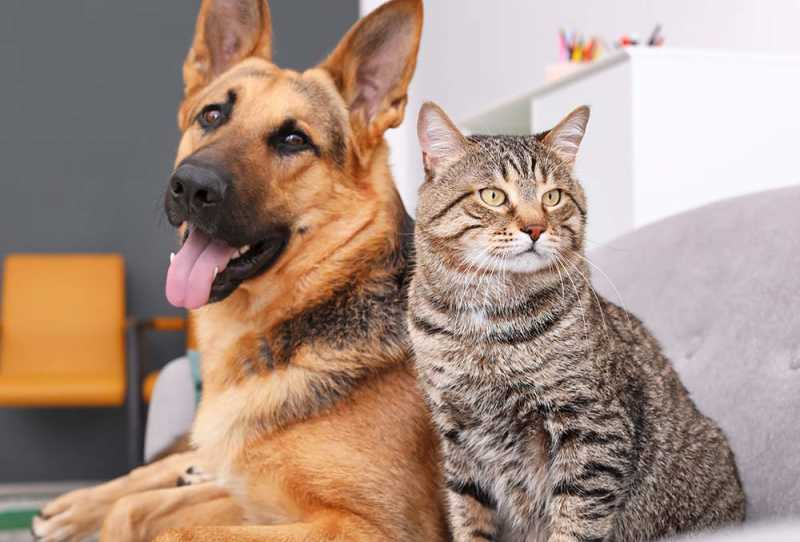cat: (404, 99, 750, 541)
dog: (34, 0, 423, 536)
